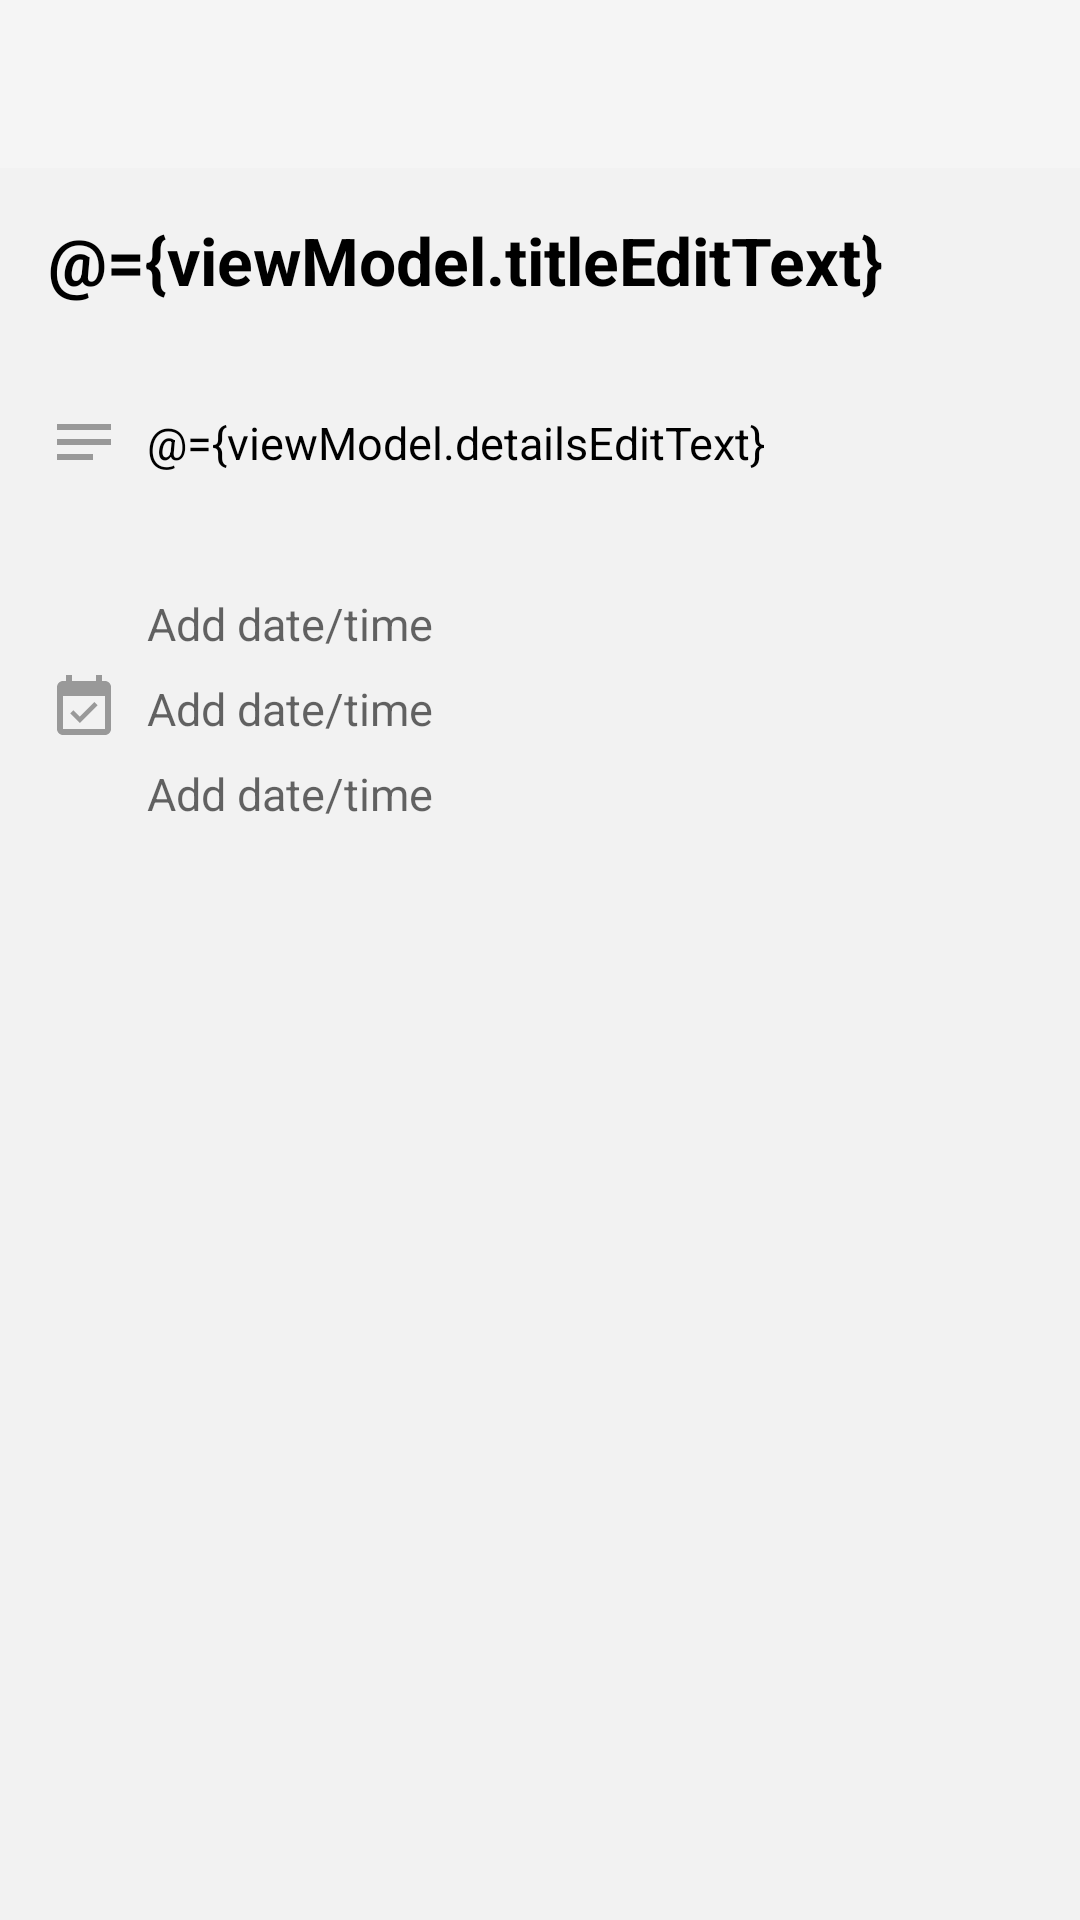

Named icons in this screenshot (1080px×1920px) and their centers, point (x, y):
event available details: point (84, 705)
